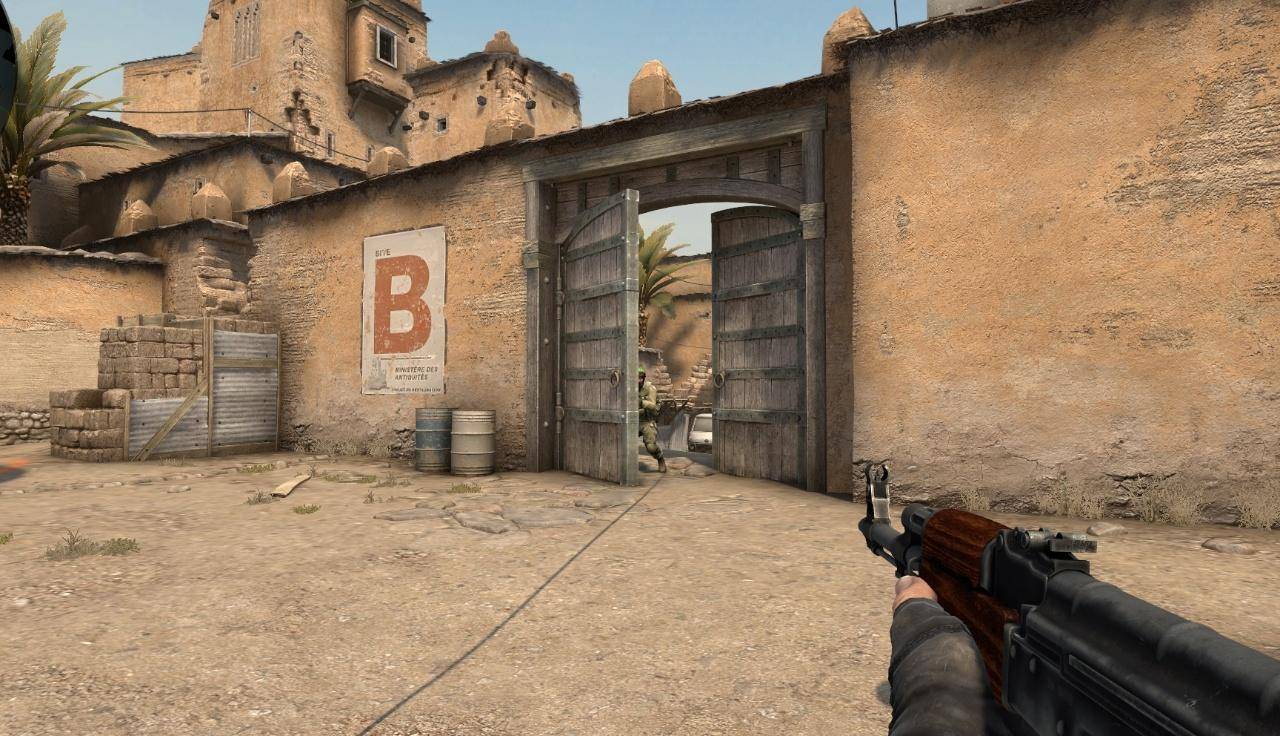ct: (637, 368, 667, 473)
cthead: (637, 369, 646, 387)
rifle: (858, 463, 1280, 736)
